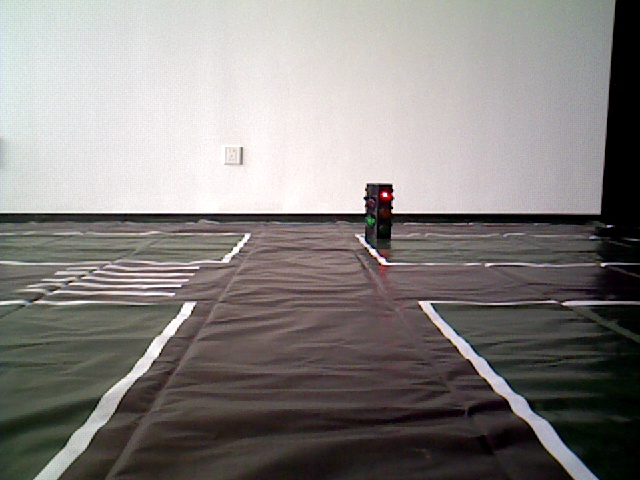red: (364, 182, 391, 244)
